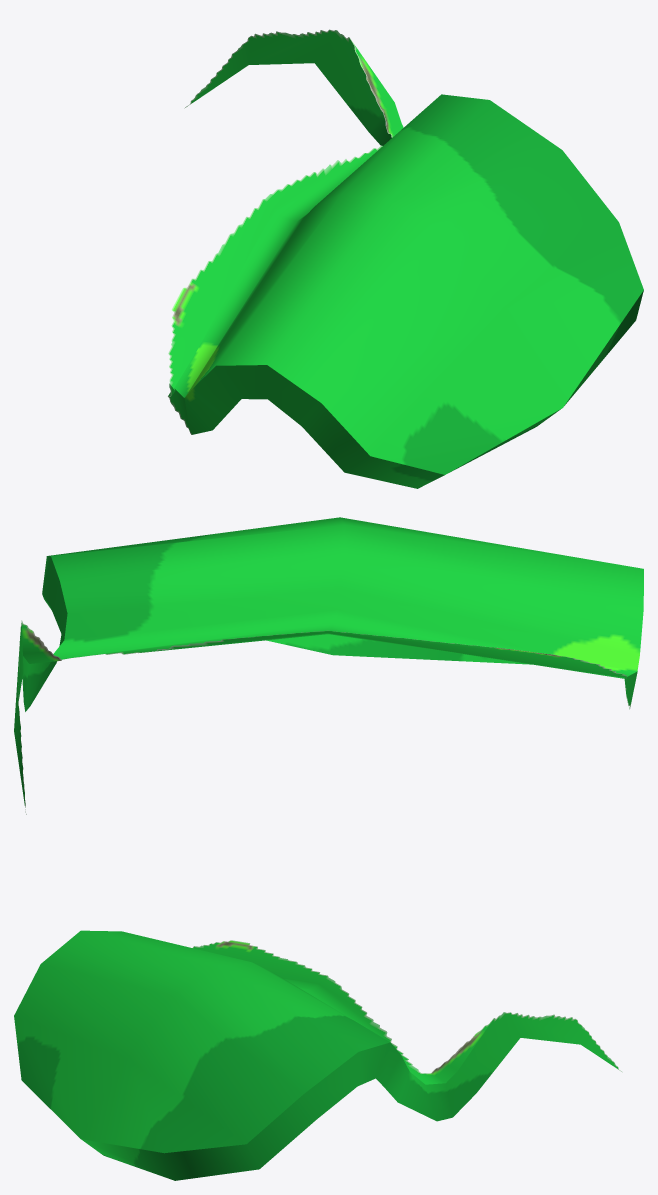
Rendered from LettuceCut.04.fbx.
3 views of the same model, one above another, from view 1: azimuth 30°, elevation 25°; view 2: azimuth 150°, elevation 25°; view 3: azimuth 270°, elevation 25° (orthographic). The views are drawn at different scales.
Visible parts, largest first — view 1: LettuceCut.04; view 2: LettuceCut.04; view 3: LettuceCut.04.
Part boxes in pixels (x1,y1,x2,y2): LettuceCut.04: (168,29,643,488); LettuceCut.04: (14,517,643,814); LettuceCut.04: (14,930,622,1180).
Size of the model in its own units: 40.92 by 14.94 by 50.87.
